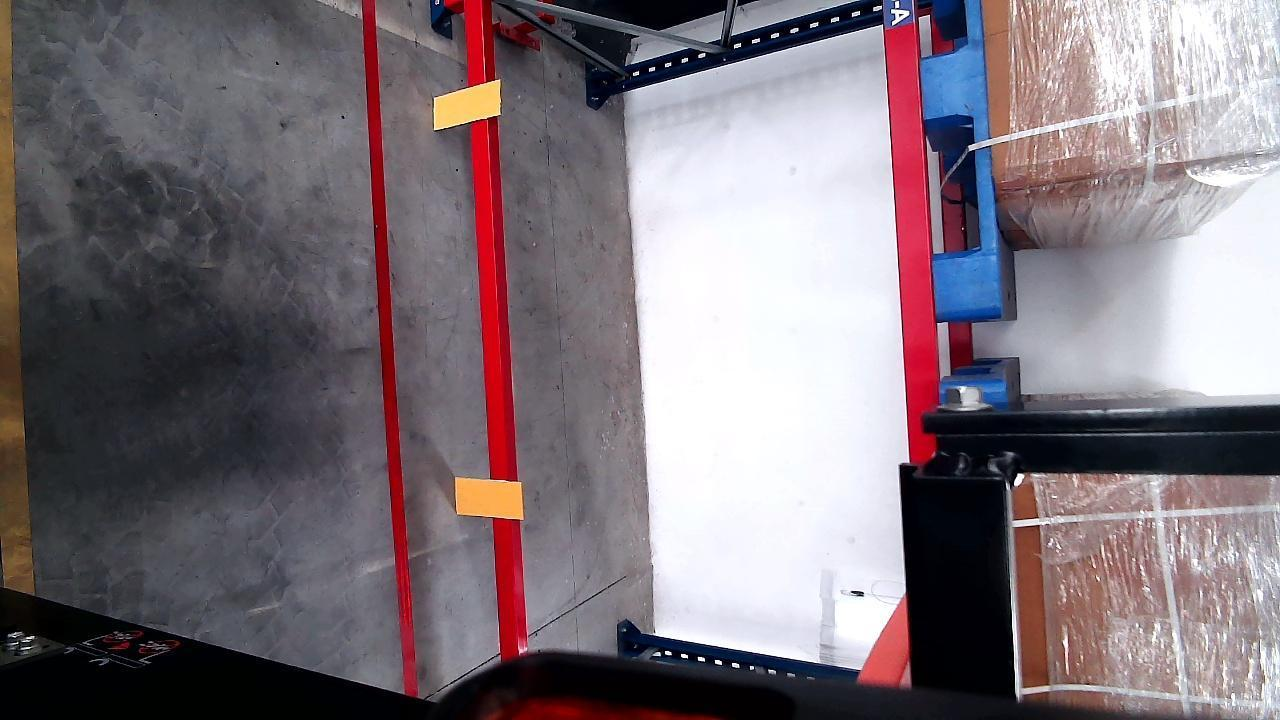h_rack: (466, 6, 523, 658), (884, 0, 937, 455)
orange_strip: (432, 79, 503, 130), (455, 476, 523, 519)
red_line: (363, 0, 415, 701)
small_pallet: (916, 0, 1000, 313)
yellow_line: (0, 17, 30, 590)
